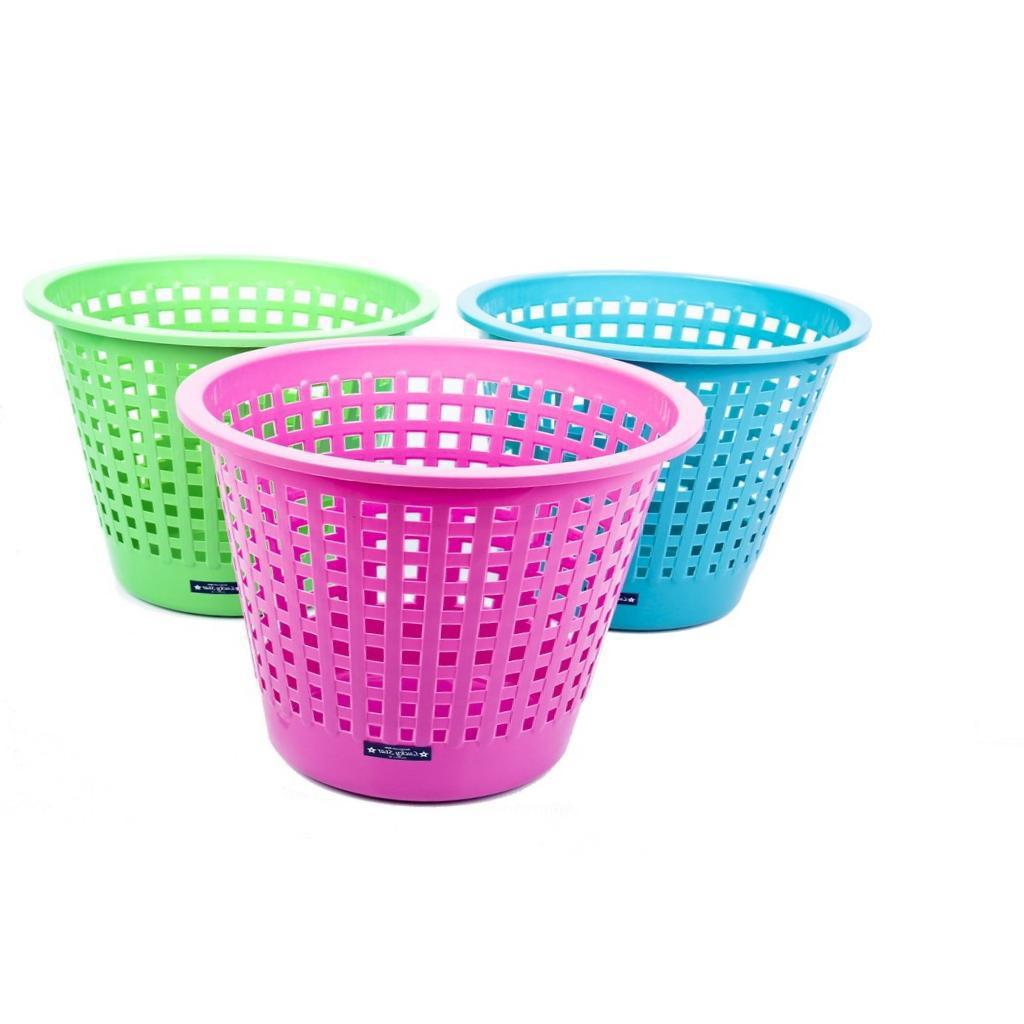Bote de Basura: (165, 328, 705, 796), (467, 237, 864, 637)
